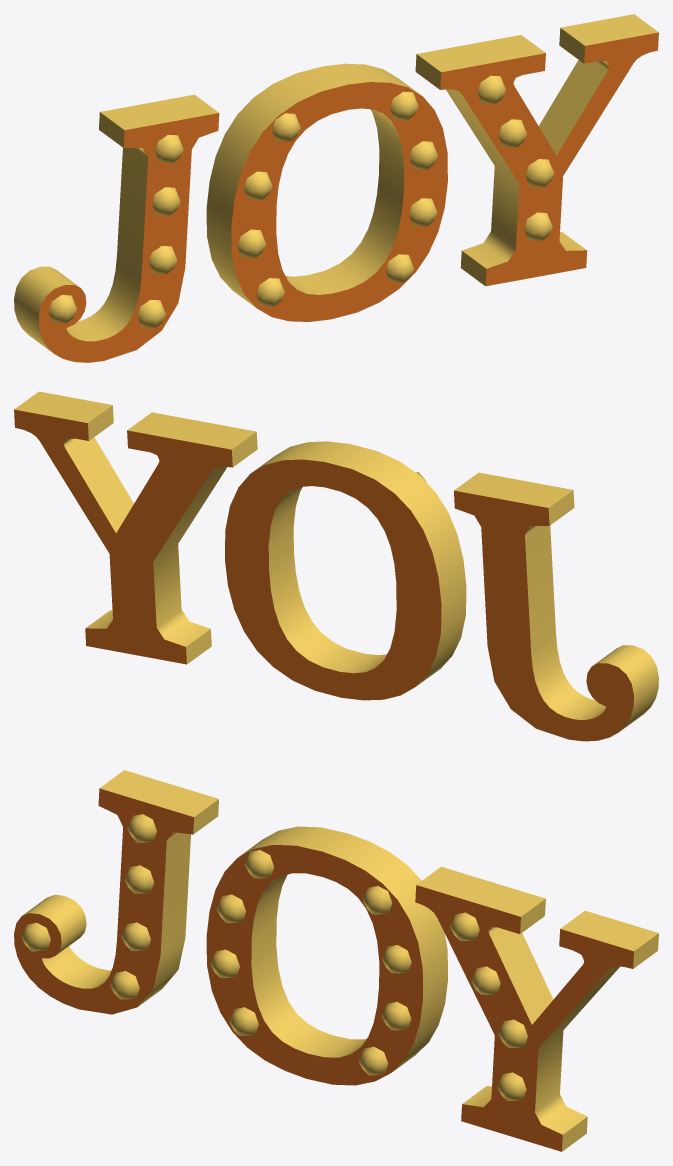
Rendered from Christmas_Sign_Joy_231109.glb.
3 renders of one model, top to bottom at view 1: azimuth 30°, elevation 25°; view 2: azimuth 150°, elevation 25°; view 3: azimuth 330°, elevation 25°, orthographic.
Parts seen in each view (by area): view 1: Sign_Joy; view 2: Sign_Joy; view 3: Sign_Joy.
Boxes of the visible parts, bbox=[...] form: Sign_Joy: bbox=[14, 14, 658, 362]; Sign_Joy: bbox=[14, 391, 658, 741]; Sign_Joy: bbox=[14, 770, 658, 1151].
Size of the model in its own units: 3 by 1.16 by 0.2726.
1 material, 1 textured.
